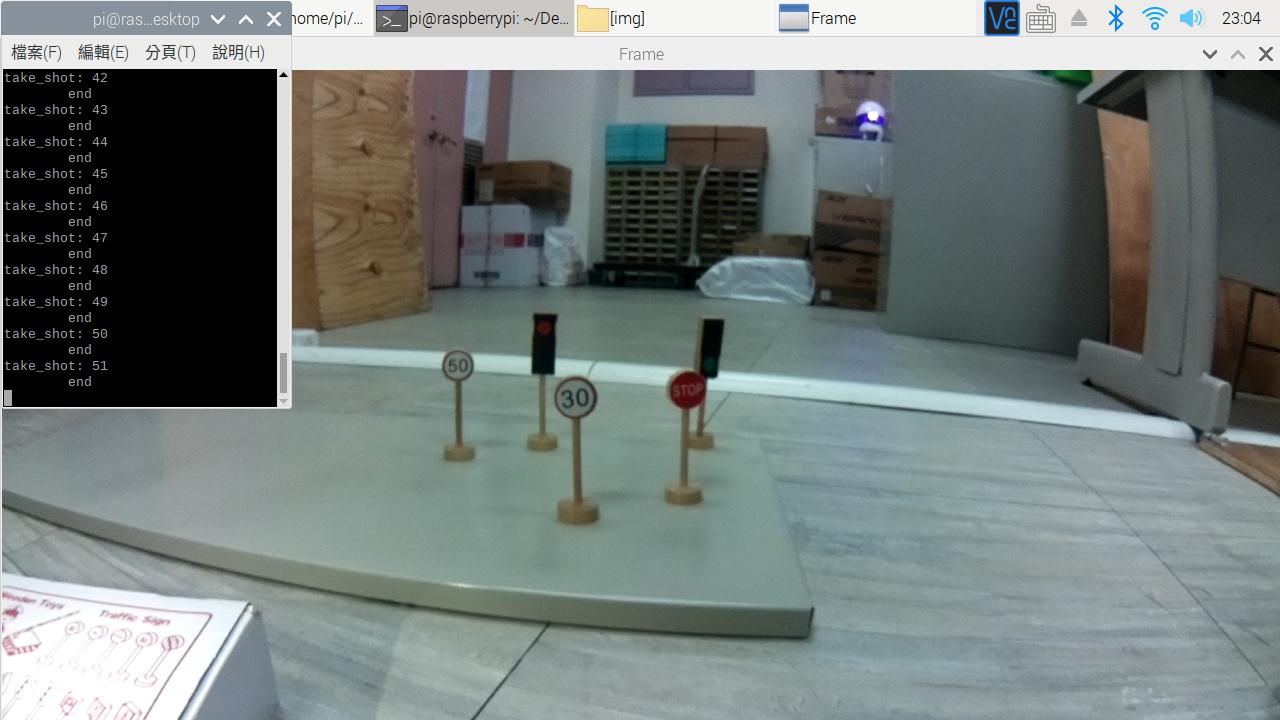Green: (697, 313, 727, 379)
Red: (529, 316, 561, 378)
Speed30: (557, 382, 597, 421)
Speed50: (444, 349, 476, 383)
Stop: (668, 369, 707, 409)
